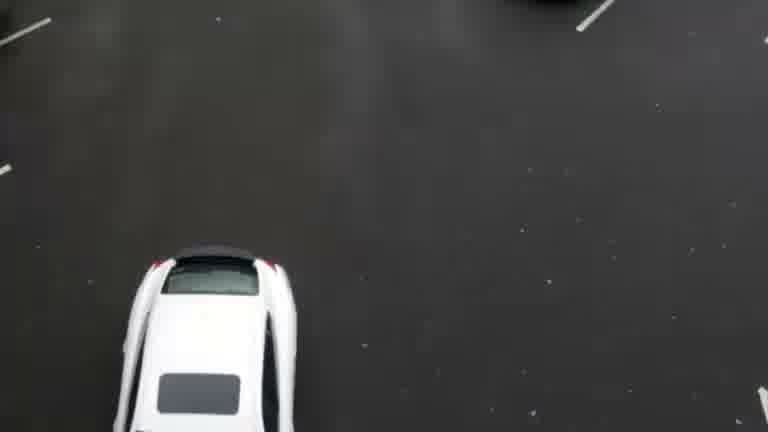car: (97, 251, 333, 432)
